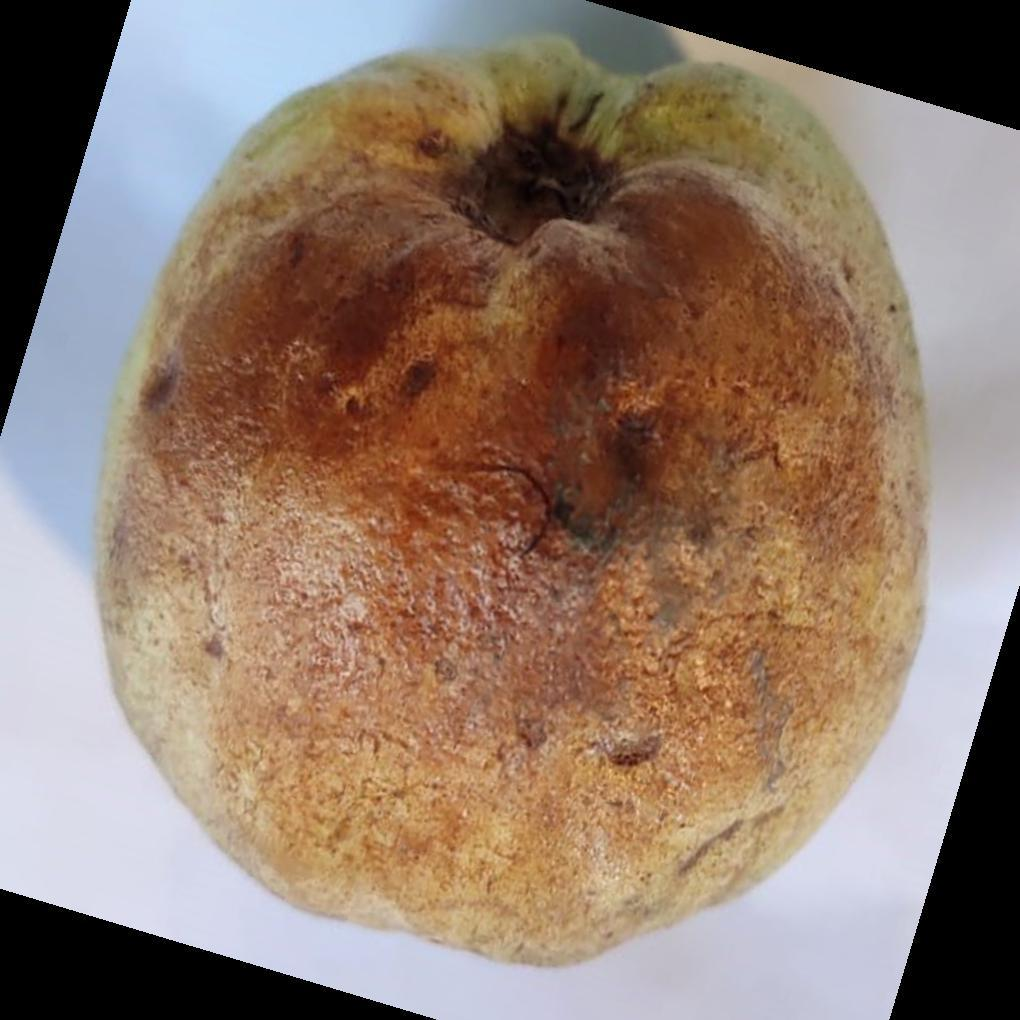FreshOrange: (89, 34, 932, 974)
